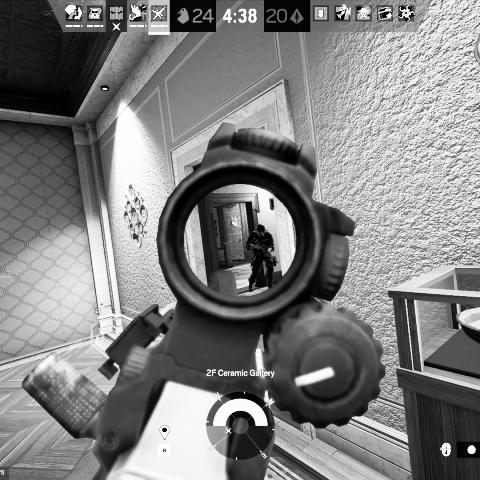Character: (244, 224, 278, 292)
Friend_label: (89, 307, 108, 322)
Head: (256, 225, 265, 237)
